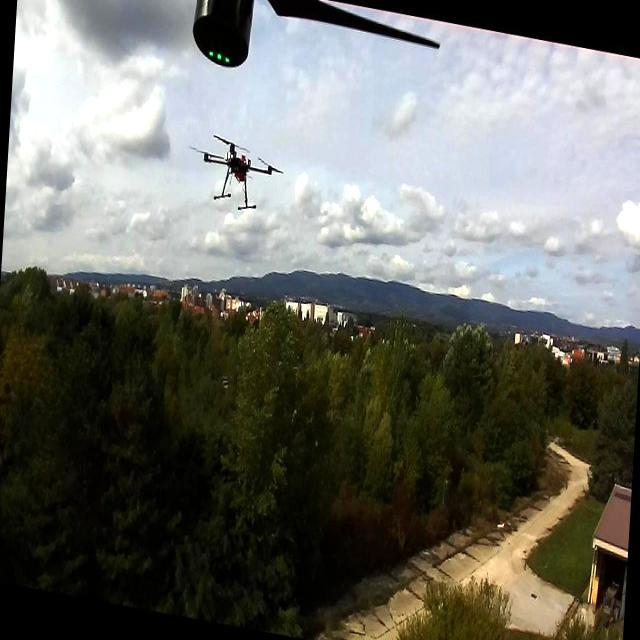drone: (196, 127, 284, 220)
